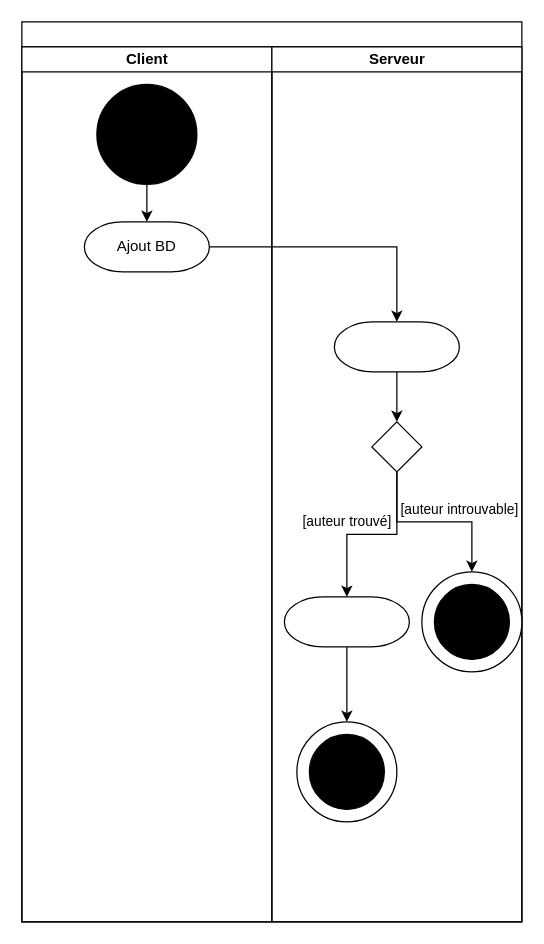
This 544x944 diagram has some shape labels left out. The shapes that lost their labels are listed below. From the top down, each one's centre as x and y in pixels, then its label:
At (x=396, y=346): "Vérification auteur".
At (x=346, y=621): "Sauvegarde BD".
